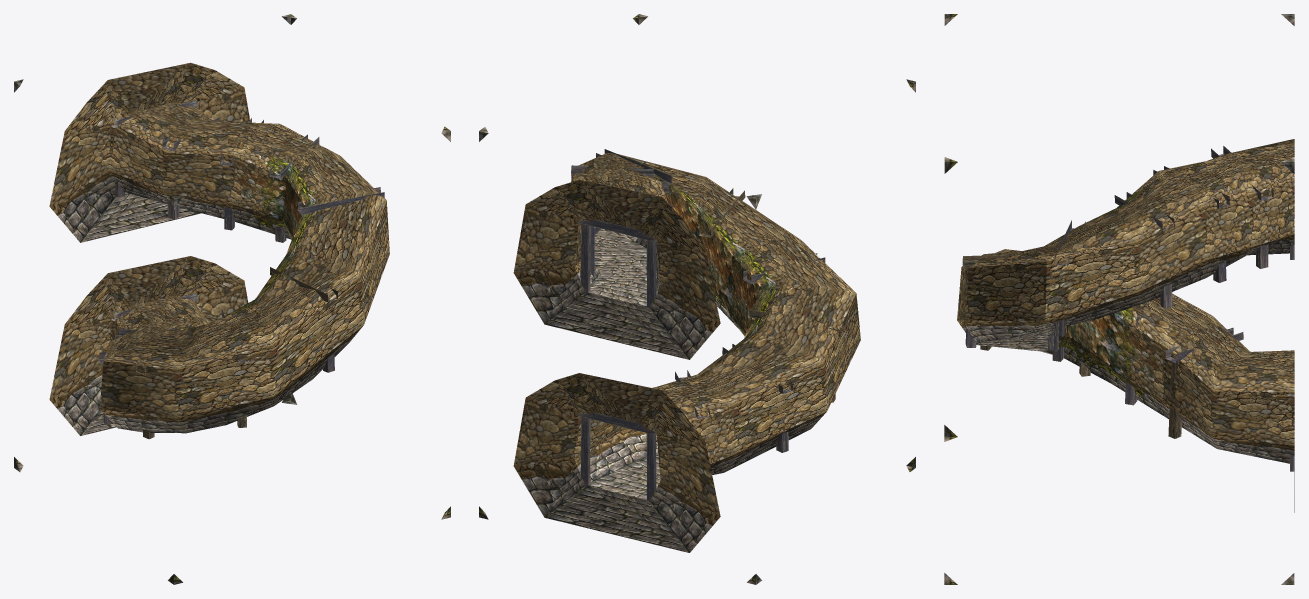
Rendered from Lbm_2p2l.glb.
3 renders of one model, left to right at view 1: azimuth 30°, elevation 25°; view 2: azimuth 150°, elevation 25°; view 3: azimuth 270°, elevation 25°, orthographic. The views are drawn at different scales.
Visible parts, largest first — view 1: Lbm_2p2l; view 2: Lbm_2p2l; view 3: Lbm_2p2l.
Boxes of the visible parts, <box> form: Lbm_2p2l: <box>14,14,450,584</box>; Lbm_2p2l: <box>479,14,915,584</box>; Lbm_2p2l: <box>944,14,1294,584</box>.
Size of the model in its own units: 15 by 20 by 15.
10 materials, 10 textured.
